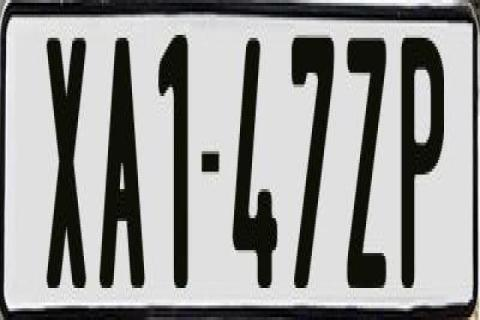0: (290, 35, 338, 297), (230, 35, 276, 297), (158, 29, 194, 291)
A: (100, 29, 150, 282)
P: (398, 29, 444, 282)
X: (46, 29, 88, 279)
Z: (346, 29, 394, 288)
